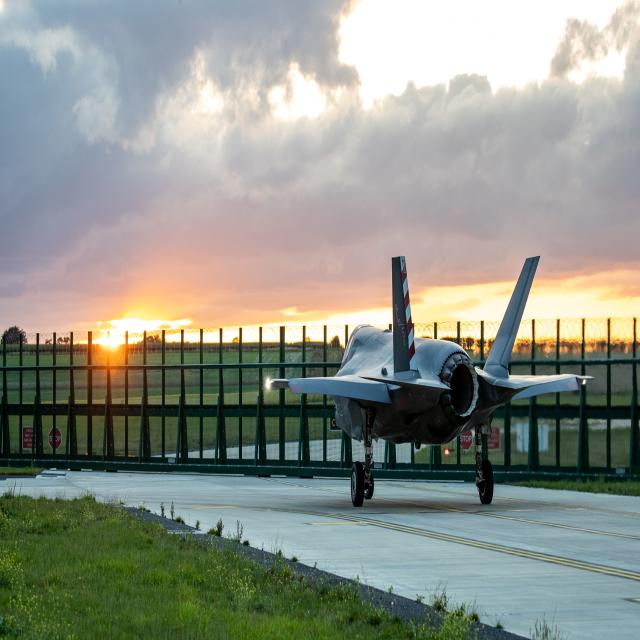MIL_Plane: (261, 255, 595, 508)
